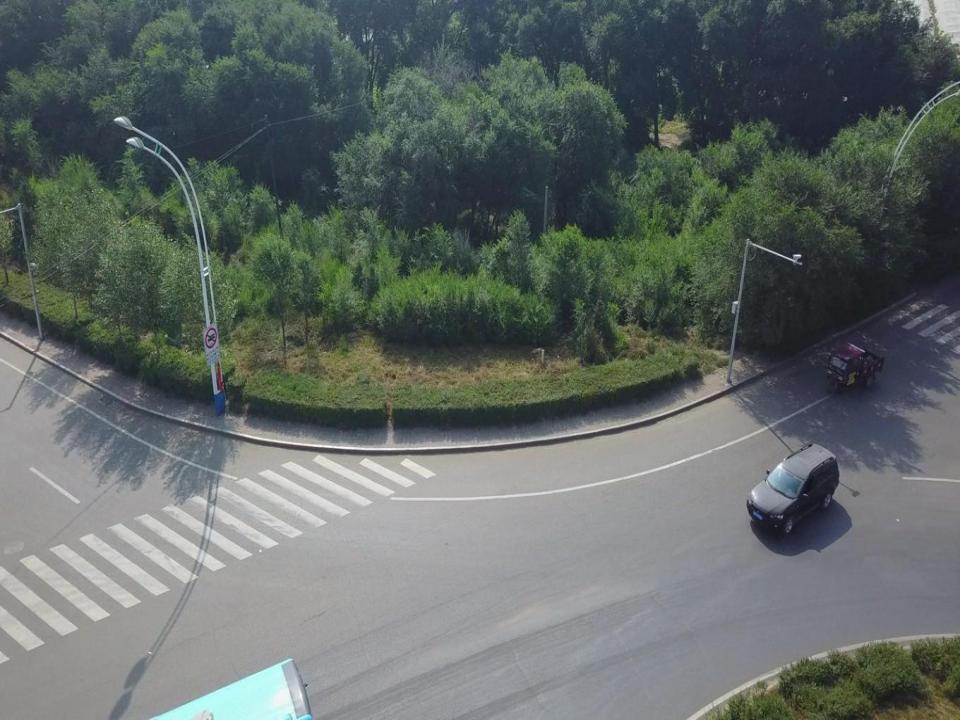car: (746, 442, 840, 534)
